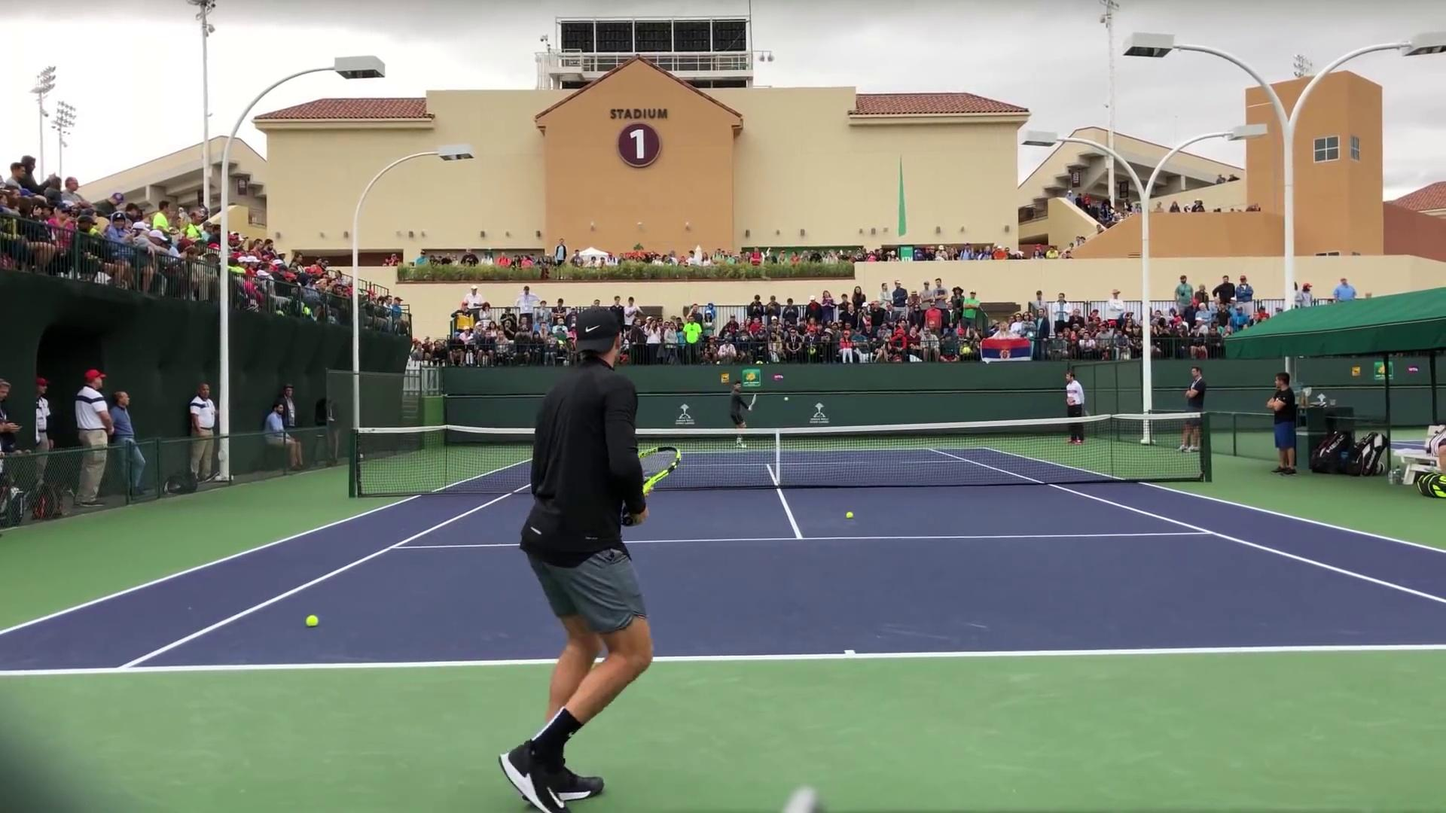ball: (305, 615, 320, 628), (844, 511, 854, 520), (782, 397, 789, 403)
